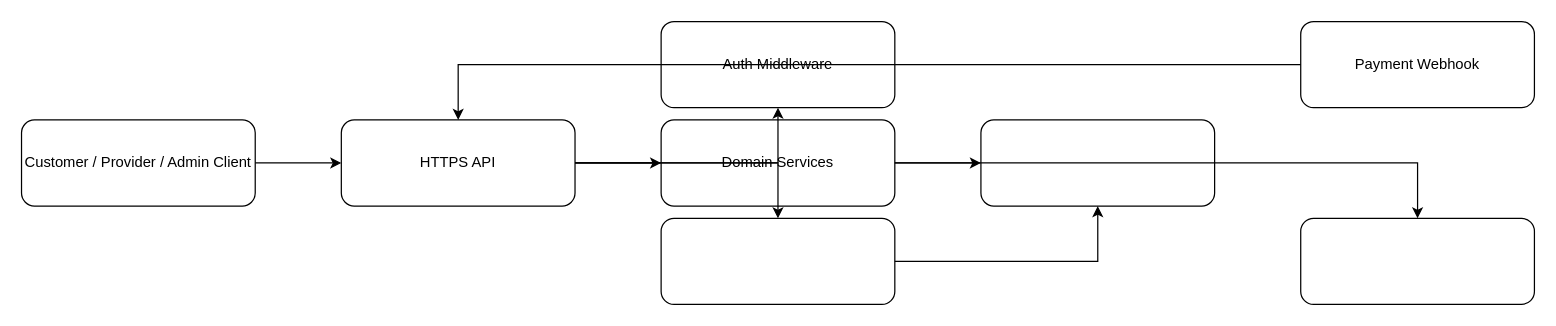
Some shapes in this 1556 by 326 pixel diagram are drawn without their labels. Here are the shapes that lost their labels. From the top down, the centre of each, then its label:
the point at 1097,162: PostgreSQL
the point at 777,260: Policy / Validation
the point at 1416,260: Notification / Events
